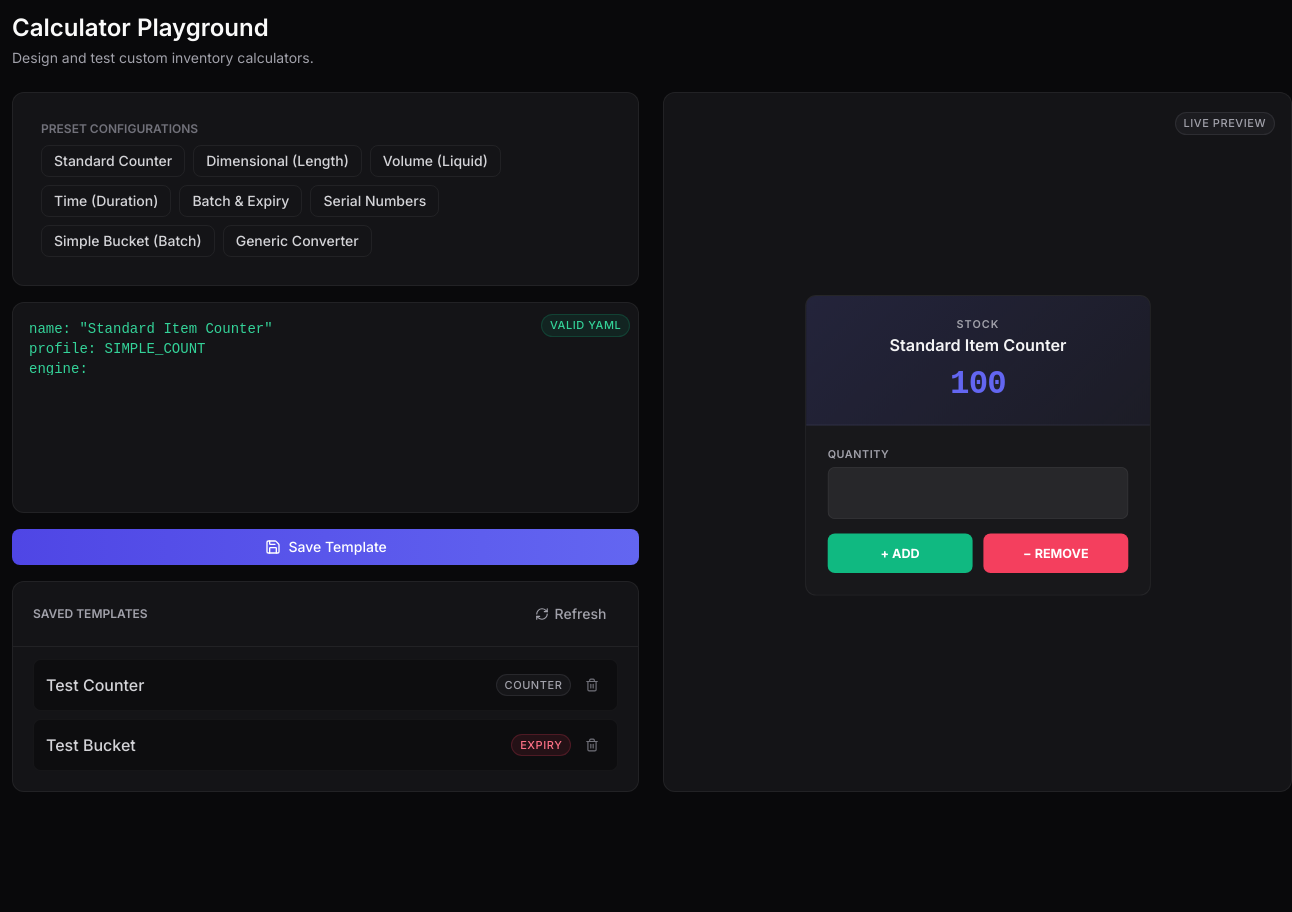
Scenario: ConfigPlayground › shows INVALID YAML when yaml is broken
The width and height of the screenshot is (1292, 912).
Step 1. Replace the text in the text box with placeholder "# YAML Configuration..." with "invalid: yaml: :" → (326, 339), box x1=13 y1=303 x2=638 y2=375
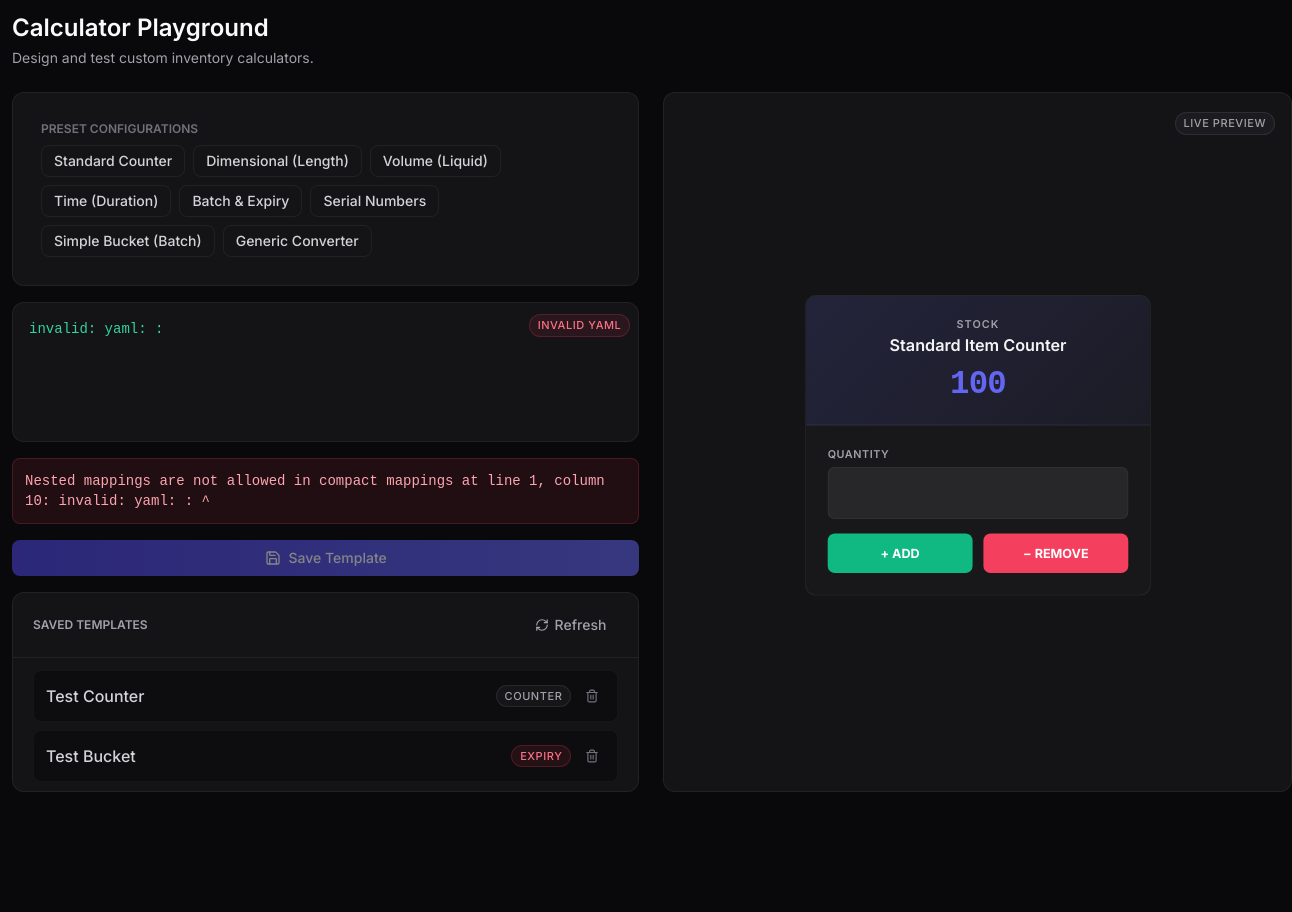
Expected: the text "INVALID YAML" is shown, x1=529 y1=314 x2=630 y2=336
